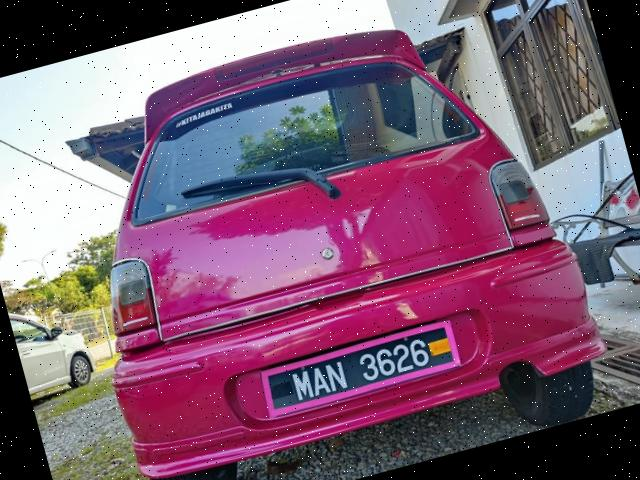License_Plate: (270, 330, 451, 413)
car: (47, 1, 624, 480)
